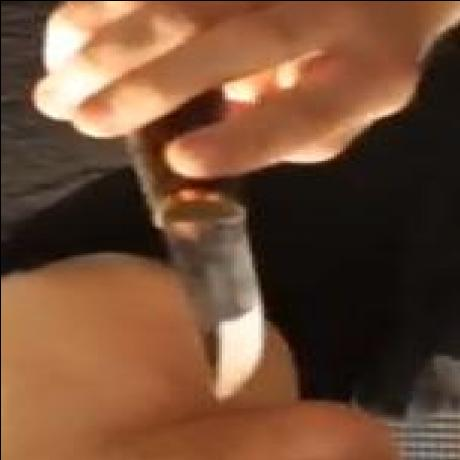weapon: (147, 181, 271, 407)
